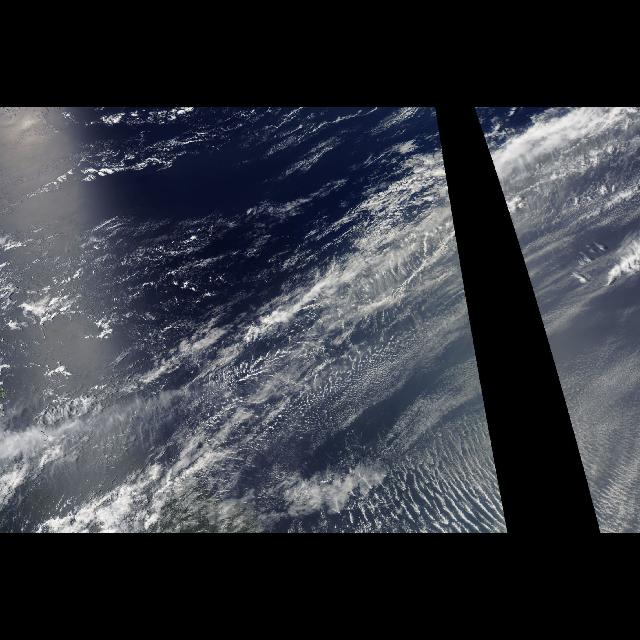Fish: (242, 118, 480, 366), (476, 118, 574, 366)
Sugar: (344, 333, 510, 533), (545, 308, 639, 534)
